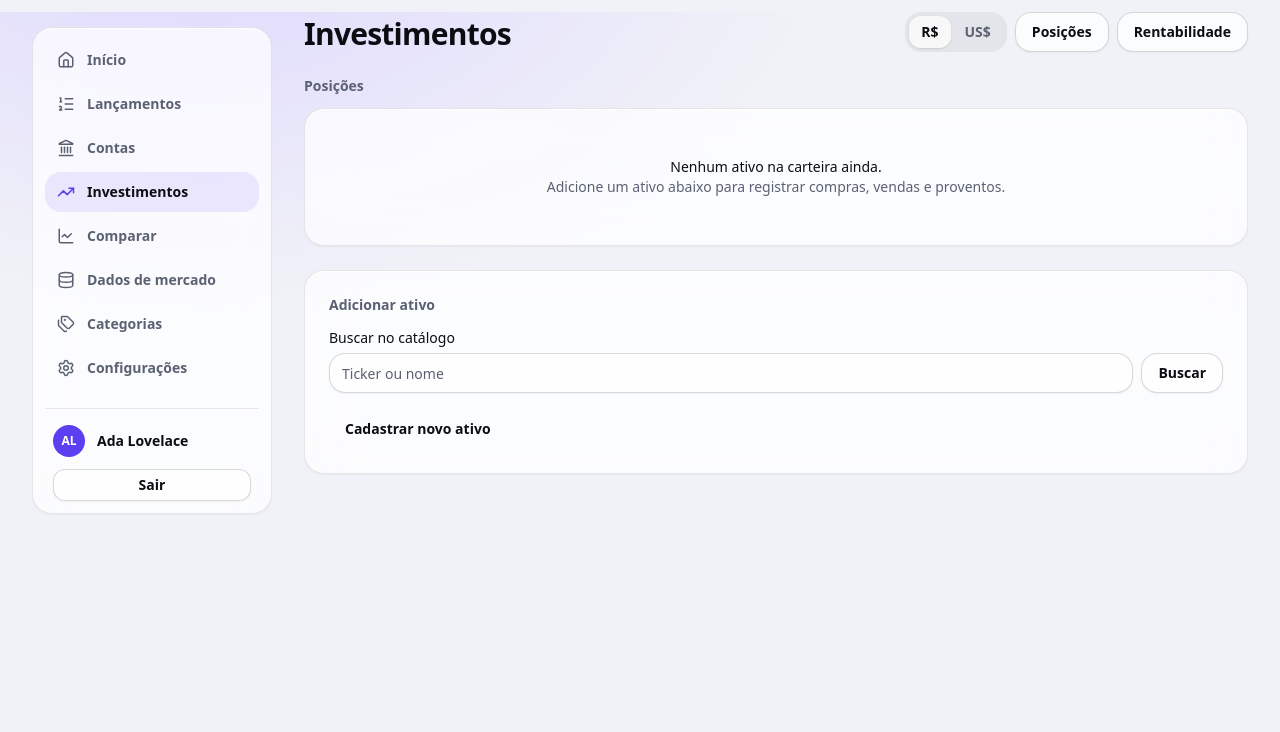
Scenario: InvestmentsPage: adding an asset › says when the search finds nothing
This screenshot has width=1280, height=732.
Type "xyz" into the field labelled "Buscar no catálogo" at x=731, y=373, box [329,353,1133,393]
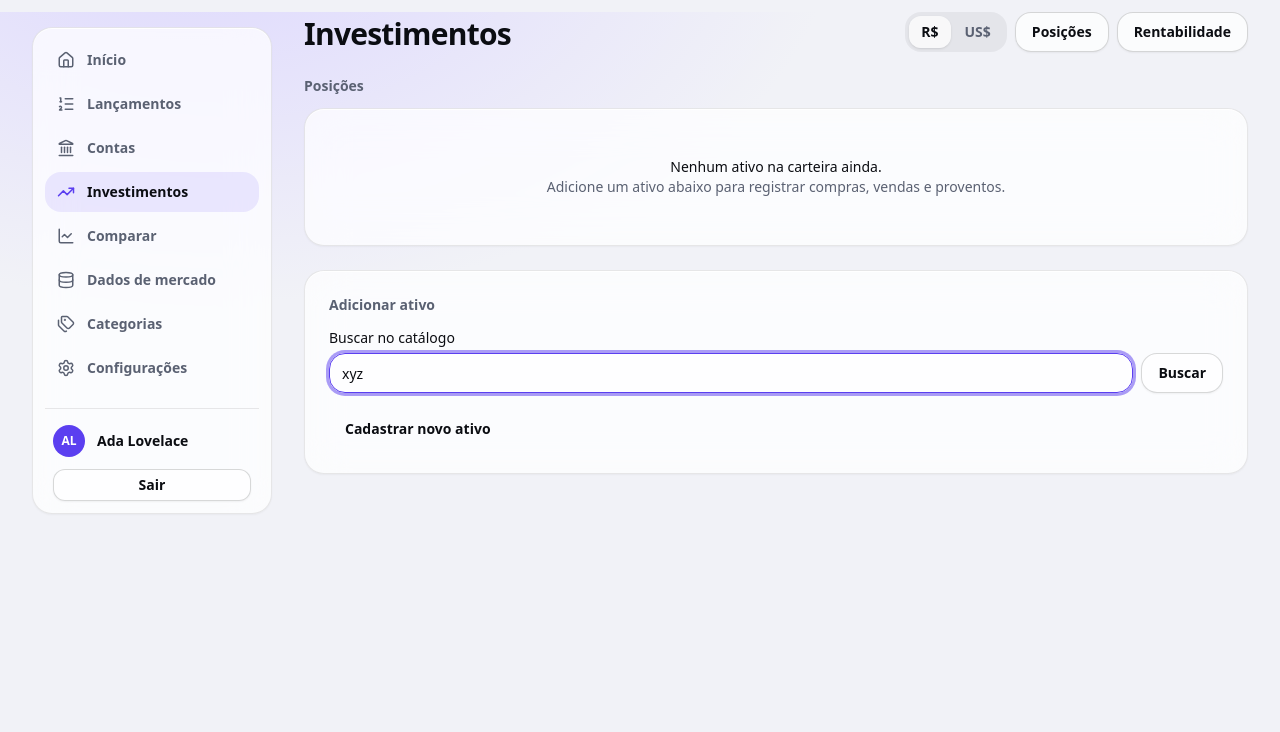
Click the button "Buscar" at x=1182, y=373, box [1141,353,1223,393]
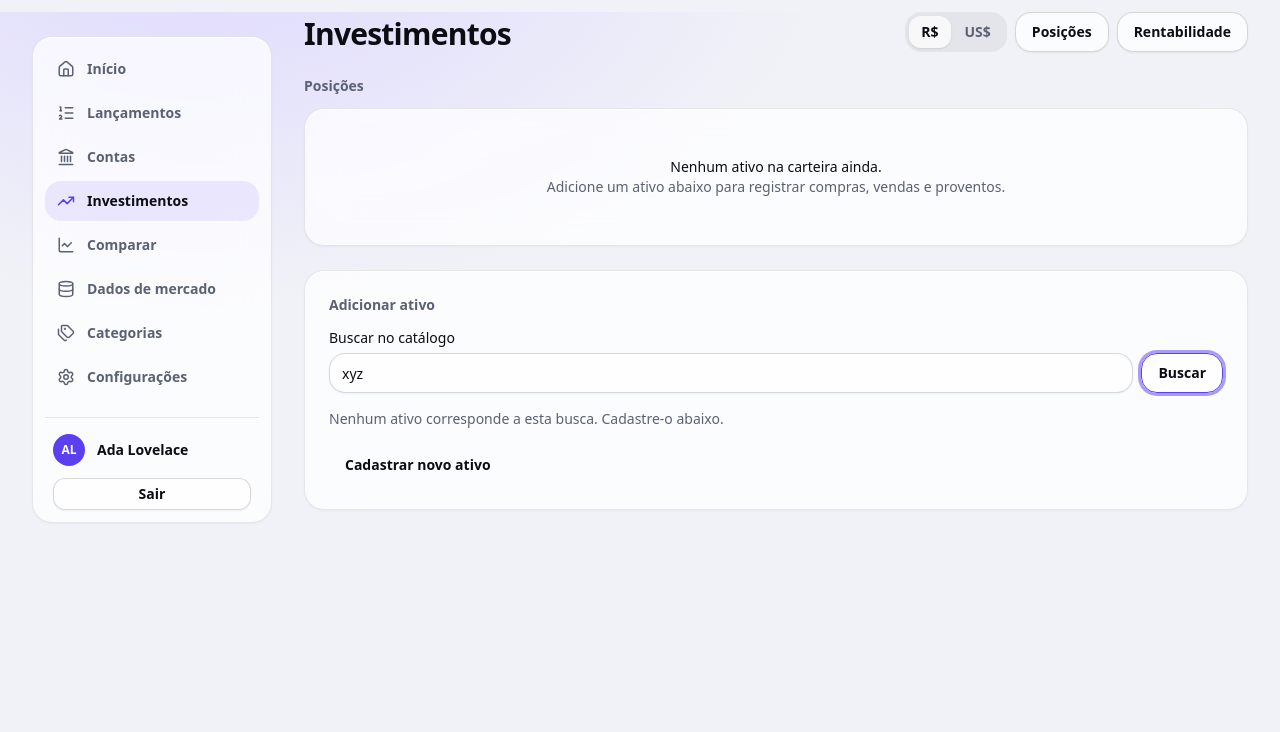
Result: the text "Nenhum ativo corresponde a esta busca. Cadastre-o abaixo." is shown at [329,409,724,428]
